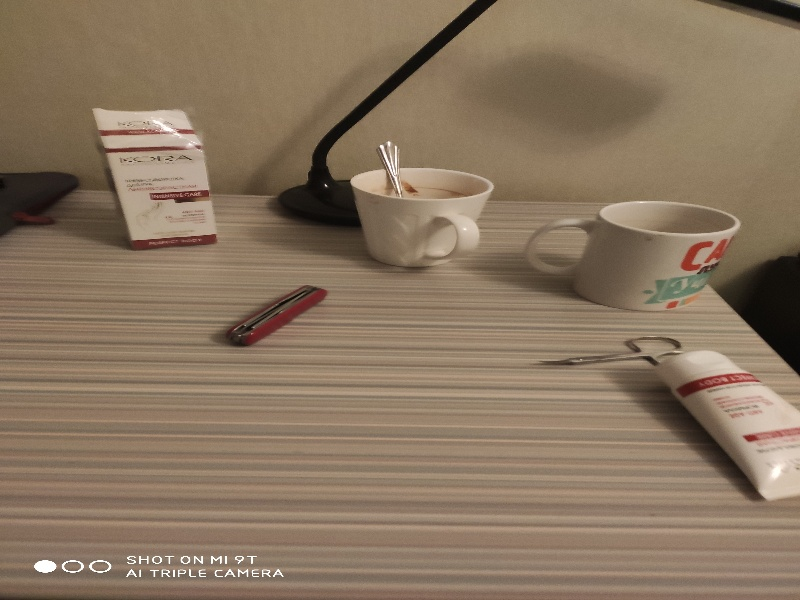knife: (215, 281, 338, 355)
